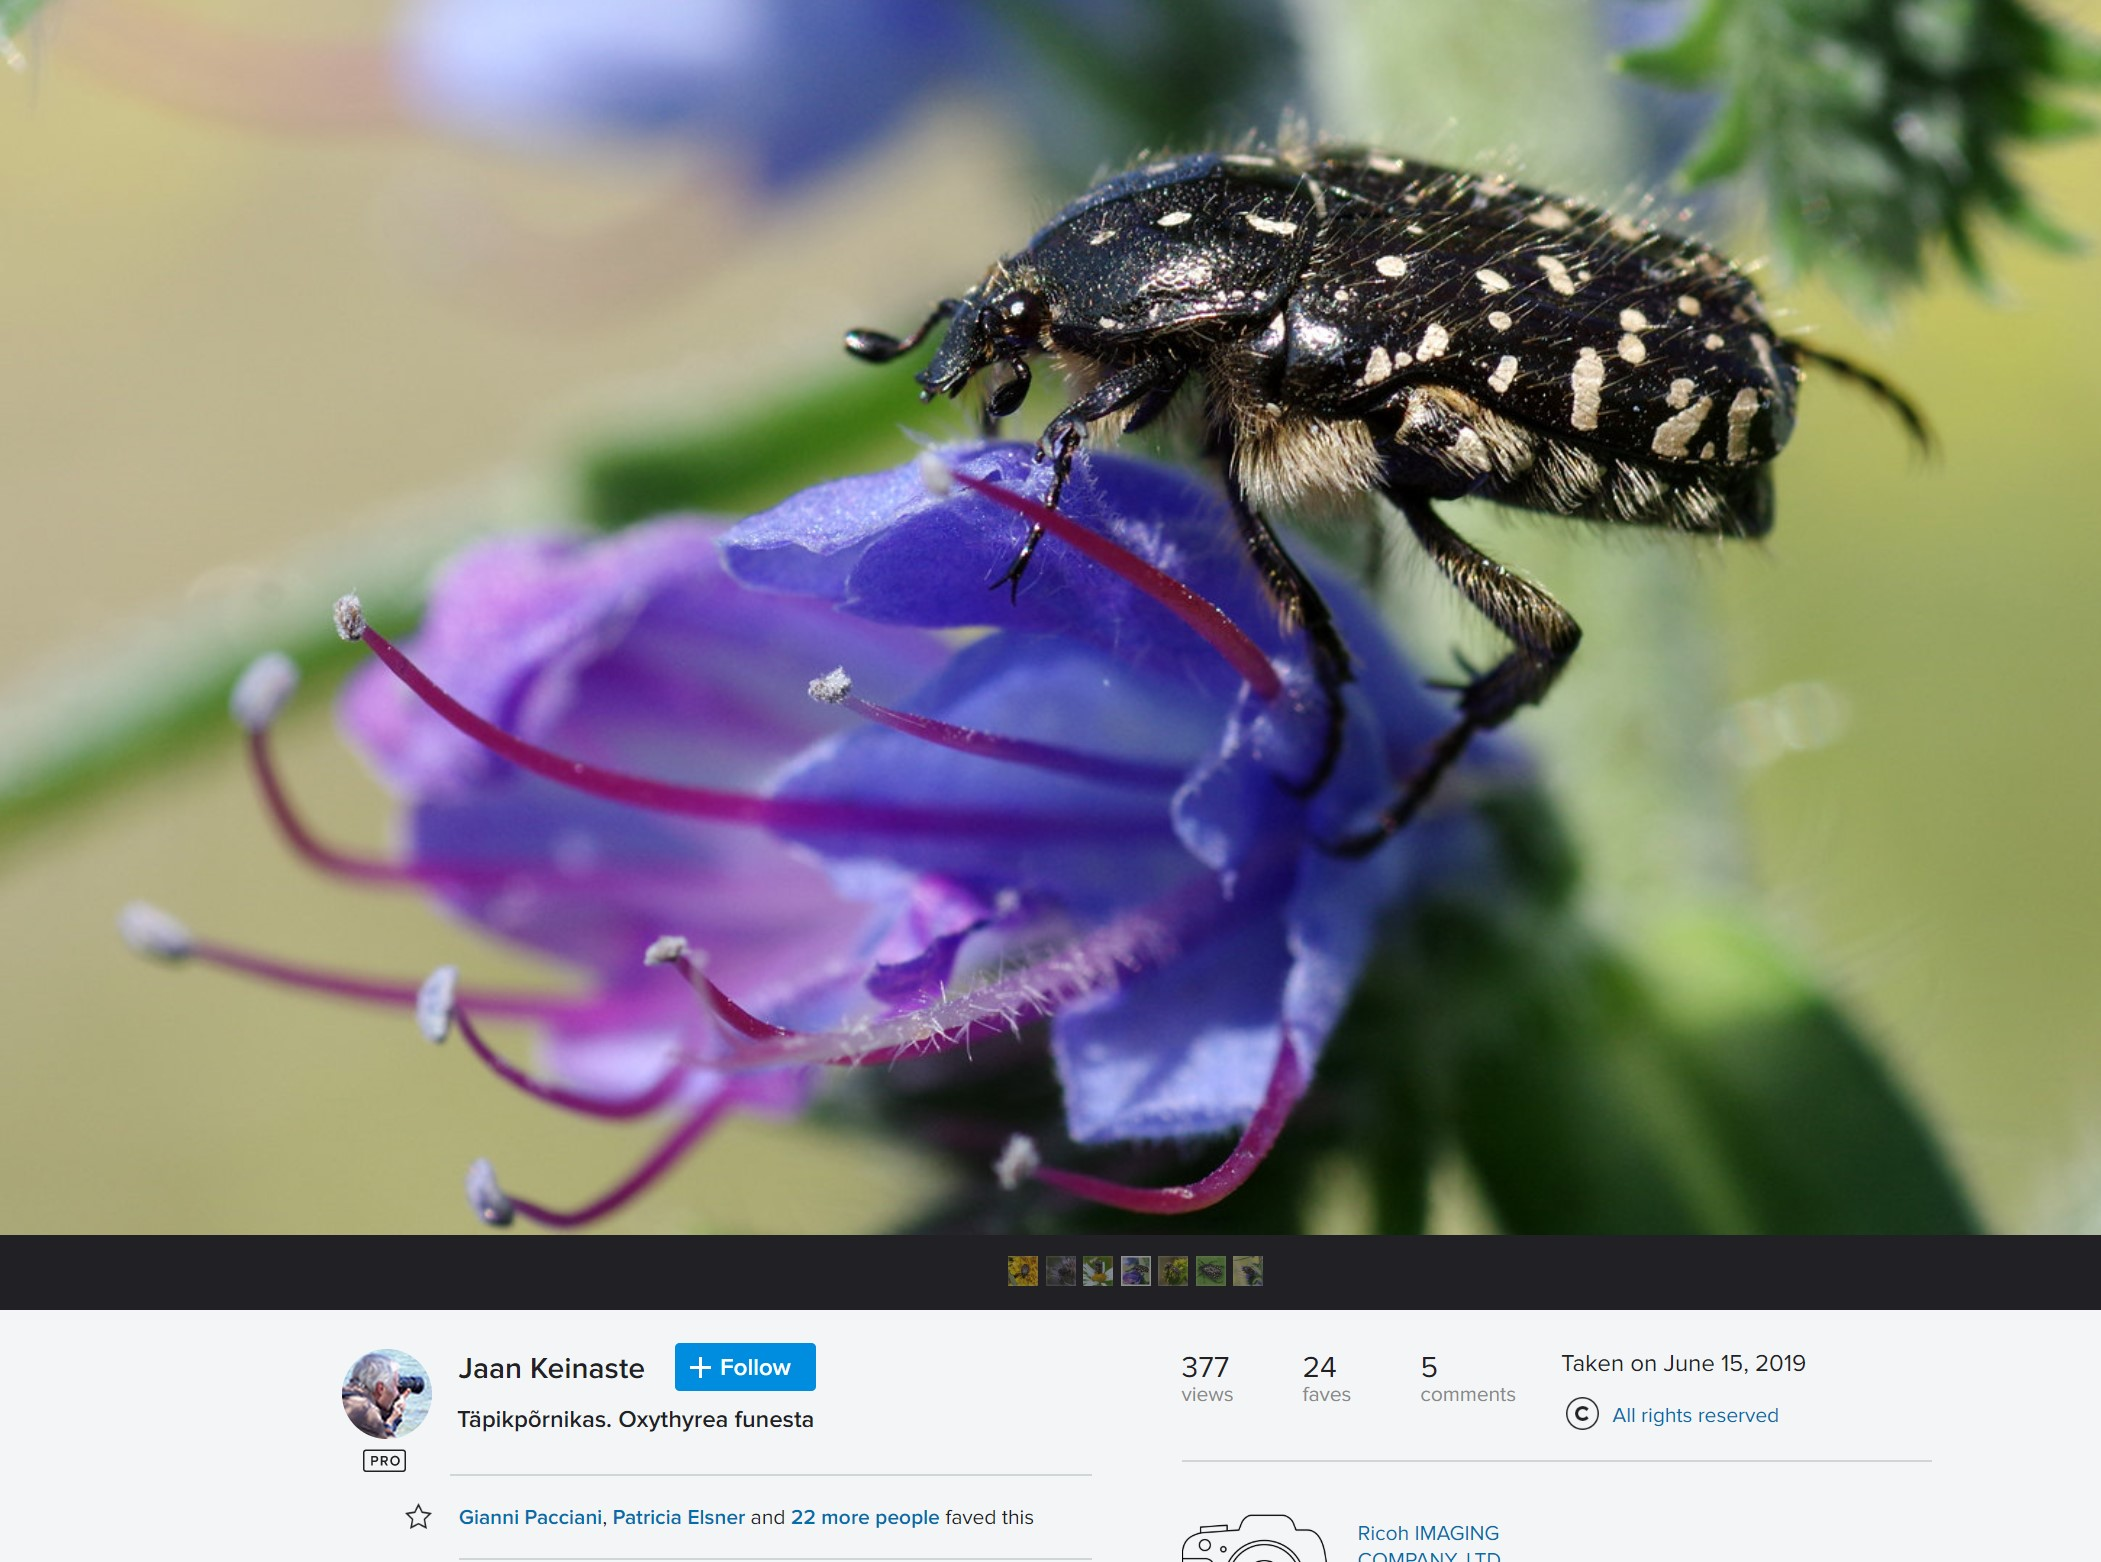Oxythyrea_funesta: (828, 135, 1958, 853)
